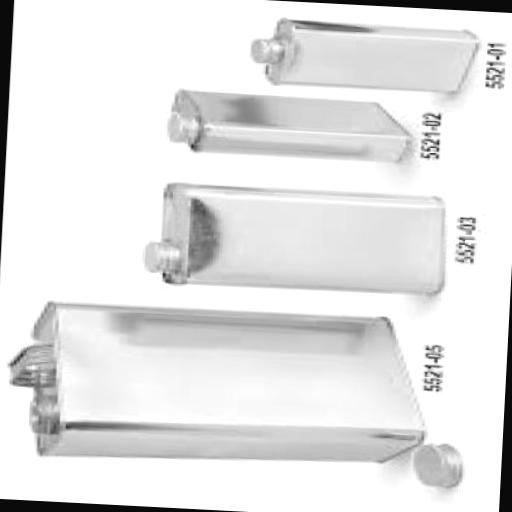metal: (2, 301, 426, 478), (140, 184, 442, 300), (245, 18, 478, 96), (162, 92, 407, 164), (410, 444, 460, 491)
